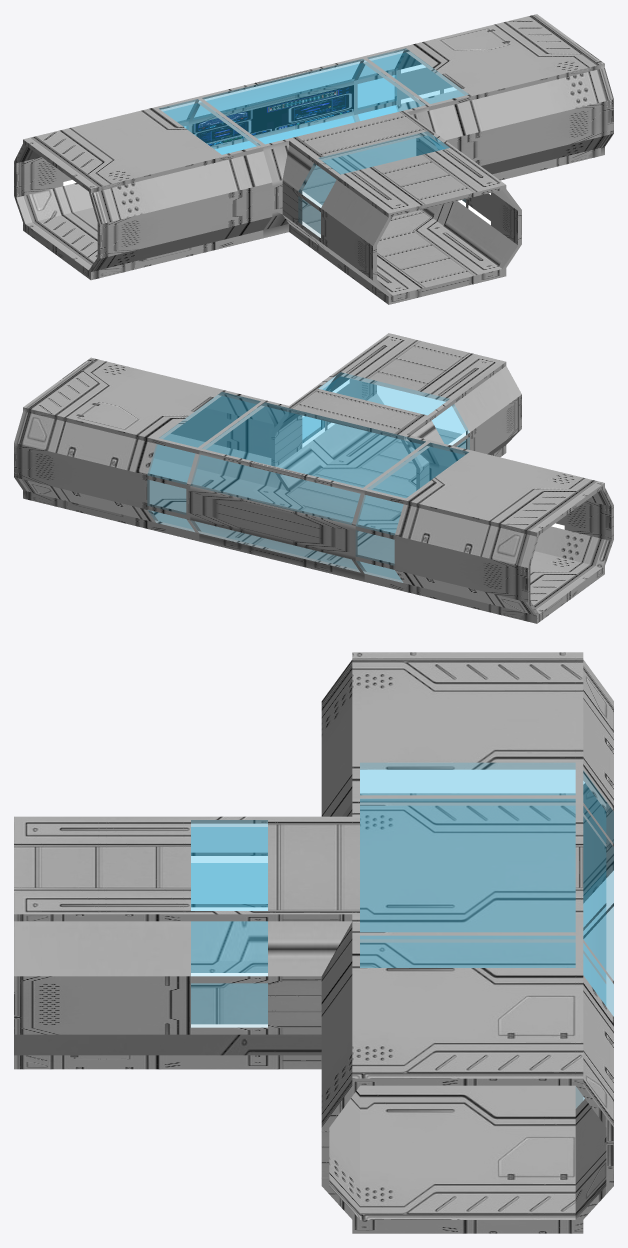
The model's file is modular_hallway_t-connector_type_02.glb.
The picture shows the model from 3 angles, top to bottom: view 1: azimuth 30°, elevation 25°; view 2: azimuth 150°, elevation 25°; view 3: azimuth 270°, elevation 25°; orthographic projection. The views are drawn at different scales.
Visible parts, largest first — view 1: Gang_T-Verbinder001; view 2: Gang_T-Verbinder001; view 3: Gang_T-Verbinder001.
Boxes of the visible parts, box(x1,y1,x2,y2) form: Gang_T-Verbinder001: box(14, 14, 613, 304); Gang_T-Verbinder001: box(14, 333, 613, 623); Gang_T-Verbinder001: box(14, 652, 613, 1233).
Bounding box in the file's own units: 16.66 × 2.83 × 9.91.
Materials: 4 (2 with a texture image).
